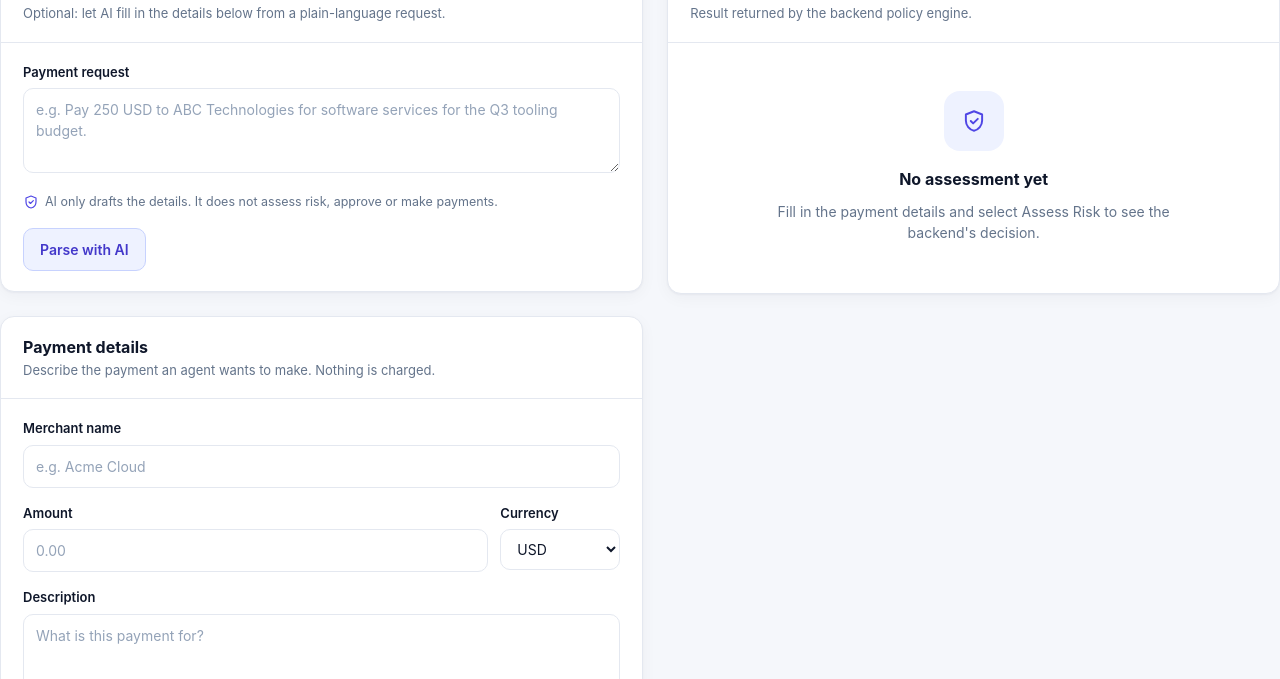
NewPaymentPage: successful assessment › renders a ALLOW decision from the backend
The image size is (1280, 679).
Type "Acme Cloud" into the field labelled "Merchant name" at (322, 466), box left=23, top=445, right=620, bottom=488
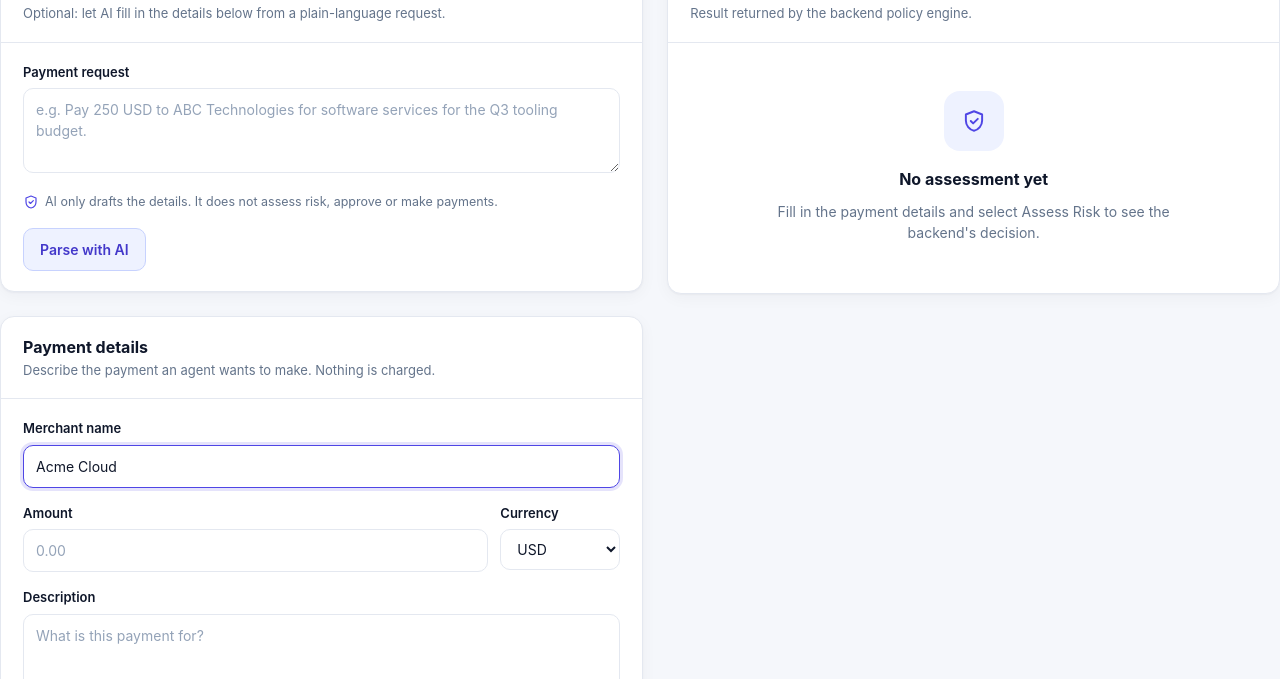
Type "49.99" into the field labelled "Amount" at (256, 551), box left=23, top=529, right=488, bottom=572
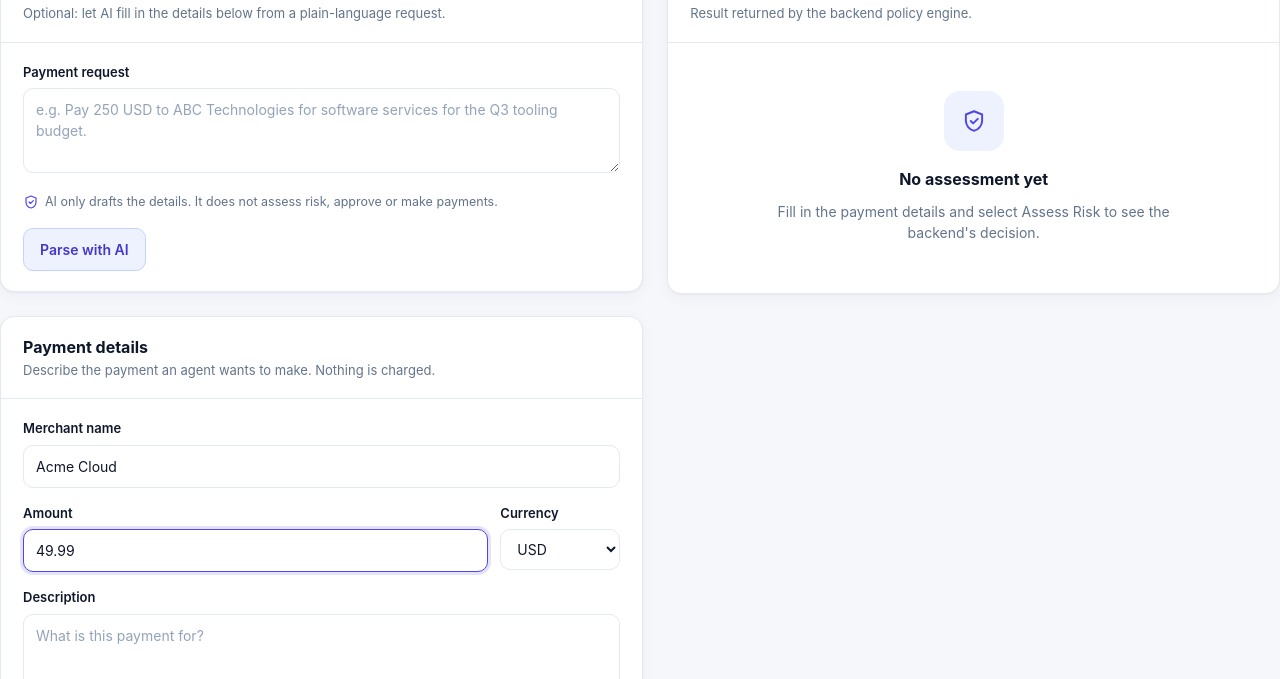
Select "USD" in the dropdown labelled "Currency" at (560, 550), box left=500, top=529, right=620, bottom=570
(page scrolled)
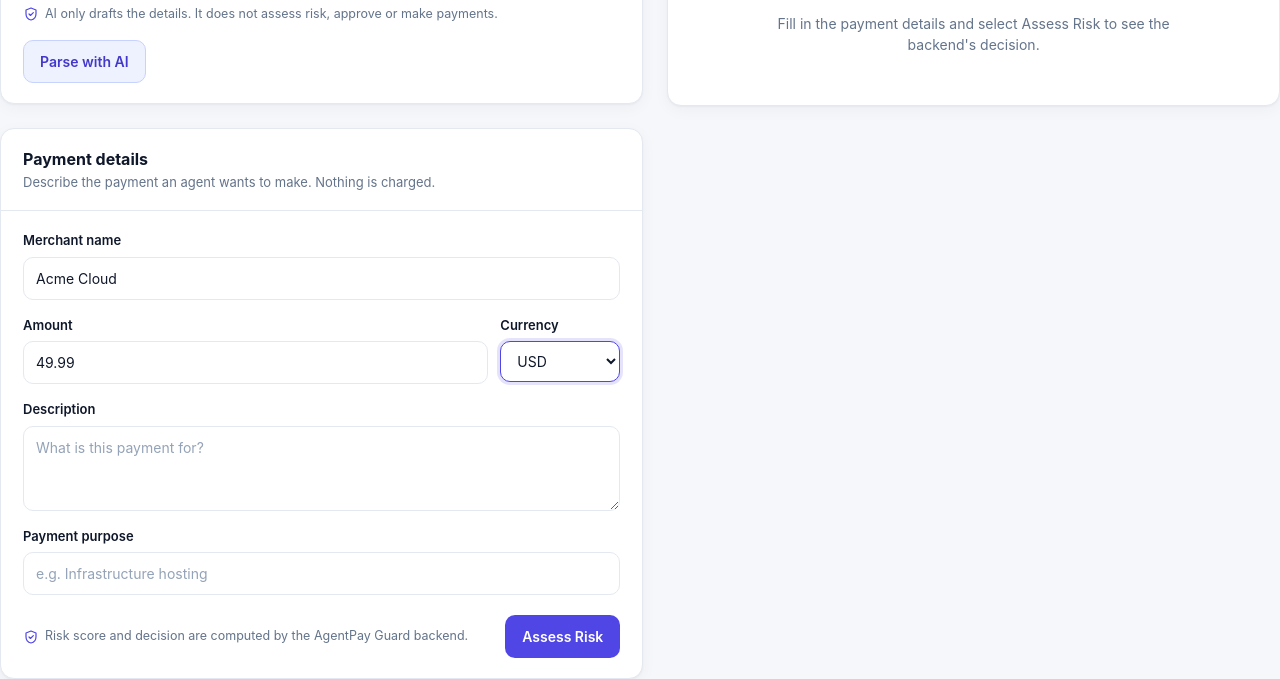
Type "Monthly hosting invoice" into the text box labelled "Description" at (322, 468), box left=23, top=426, right=620, bottom=511
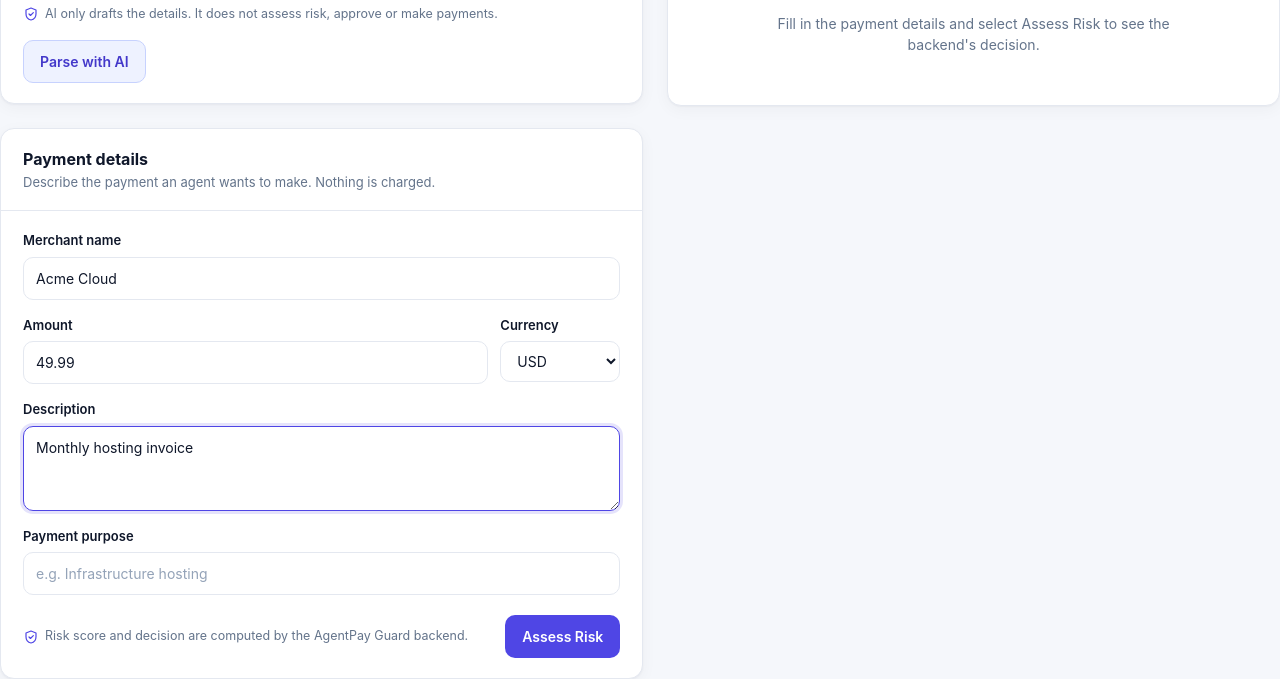
Type "Infrastructure hosting" into the field labelled "Payment purpose" at (322, 574), box left=23, top=552, right=620, bottom=595
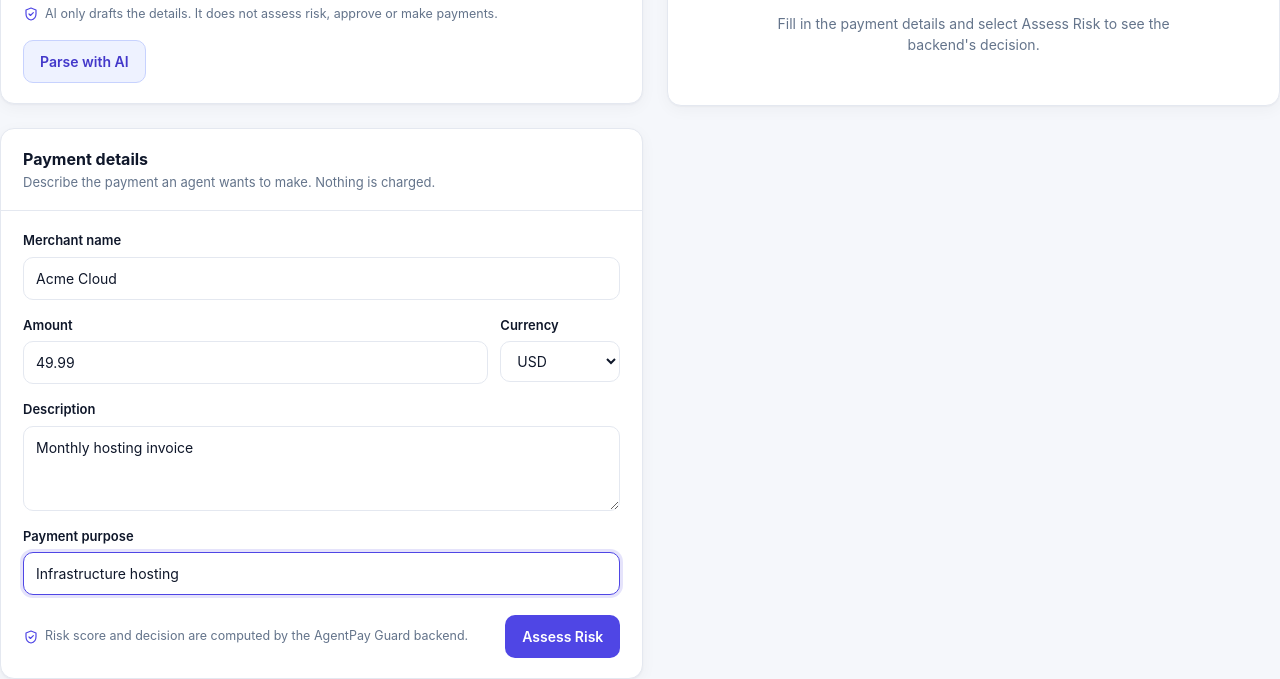
Click the button "Assess Risk" at (563, 637), box left=505, top=615, right=620, bottom=658
(page scrolled)
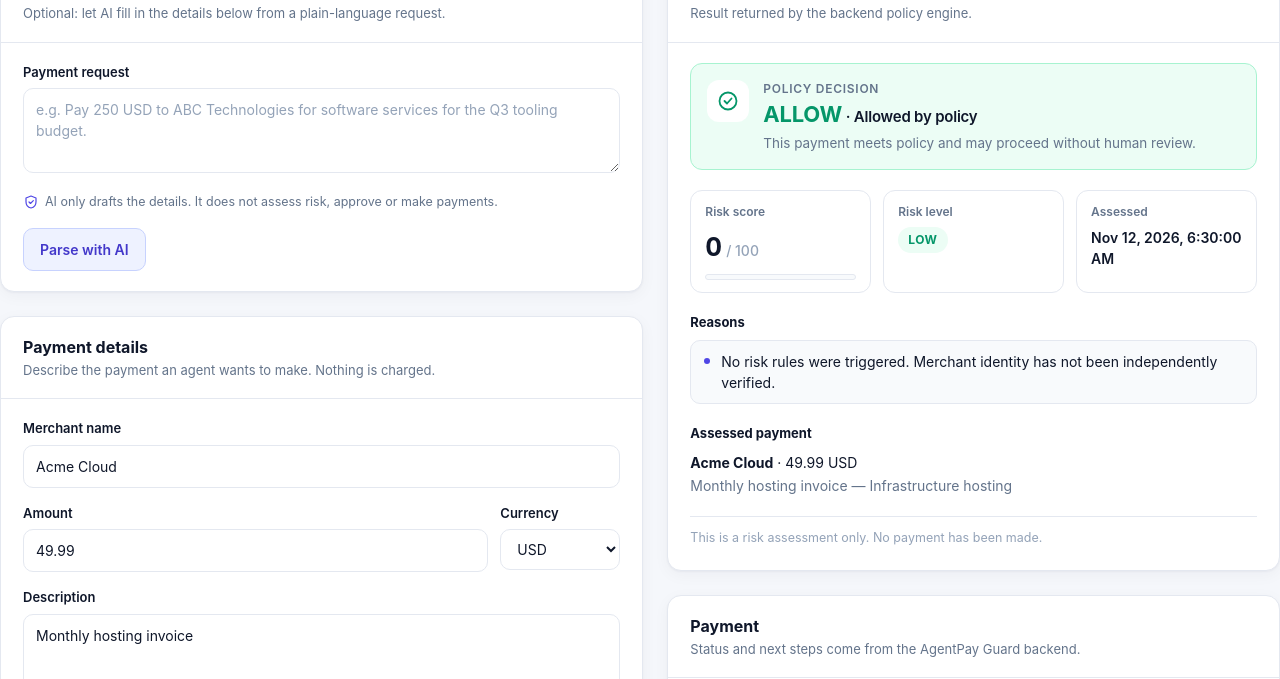
Check: the text "ALLOW" is shown, box left=763, top=100, right=842, bottom=126
Check: the text "Allowed by policy" is shown, box left=854, top=106, right=977, bottom=126
Check: the text "0" is shown, box left=705, top=231, right=722, bottom=262
